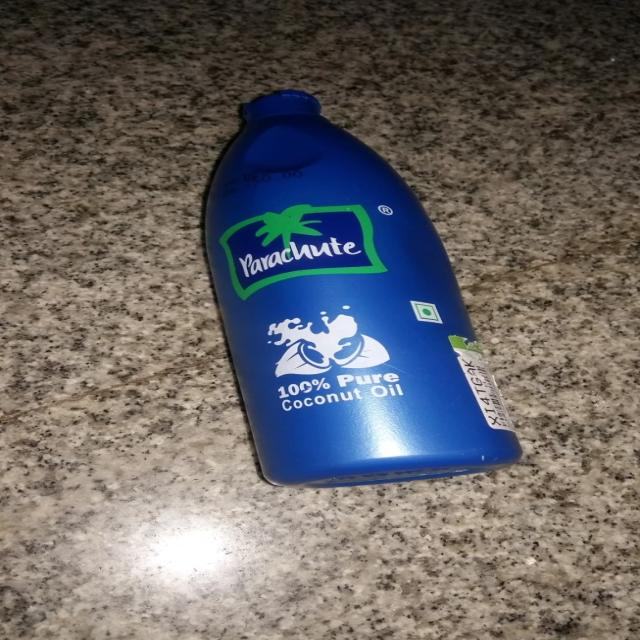parachute_oil: (187, 84, 524, 490)
